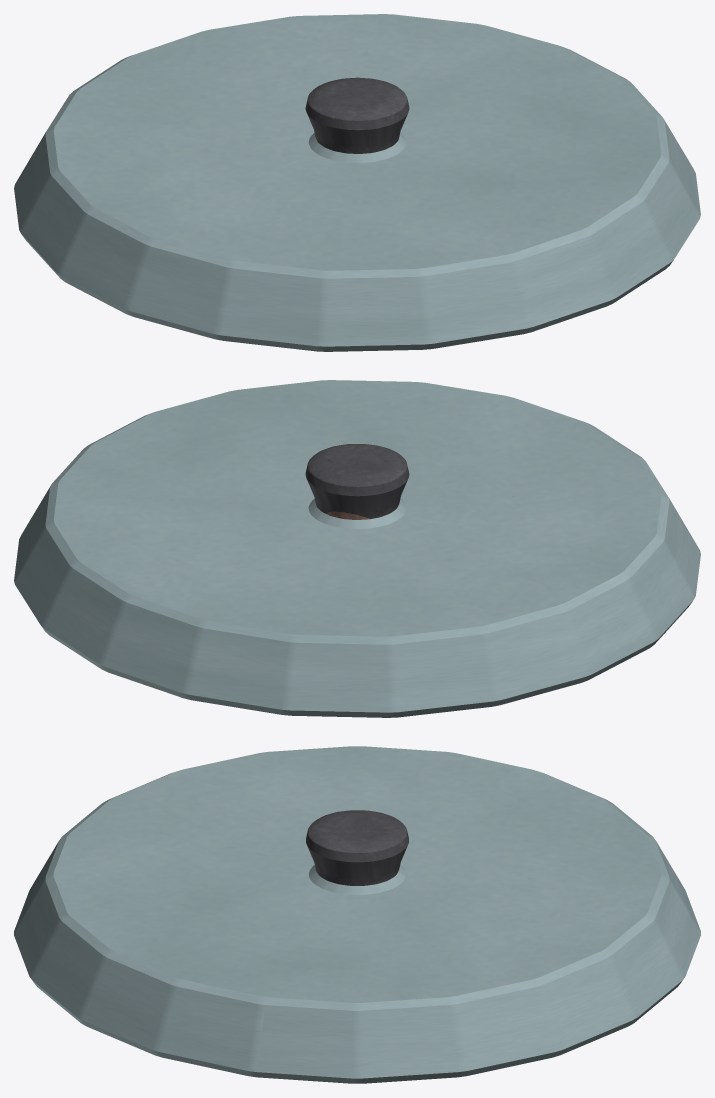
The model's file is TrashBinLid.fbx.
3 renders of one model, top to bottom at view 1: azimuth 30°, elevation 25°; view 2: azimuth 150°, elevation 25°; view 3: azimuth 270°, elevation 25°, orthographic.
Visible parts, largest first — view 1: pCylinder2; view 2: pCylinder2; view 3: pCylinder2.
Boxes of the visible parts, left/top/right/bottom form: pCylinder2: left=14, top=14, right=700, bottom=351; pCylinder2: left=14, top=380, right=700, bottom=717; pCylinder2: left=14, top=746, right=700, bottom=1083.
Size of the model in its own units: 23.38 by 4.26 by 23.38.
